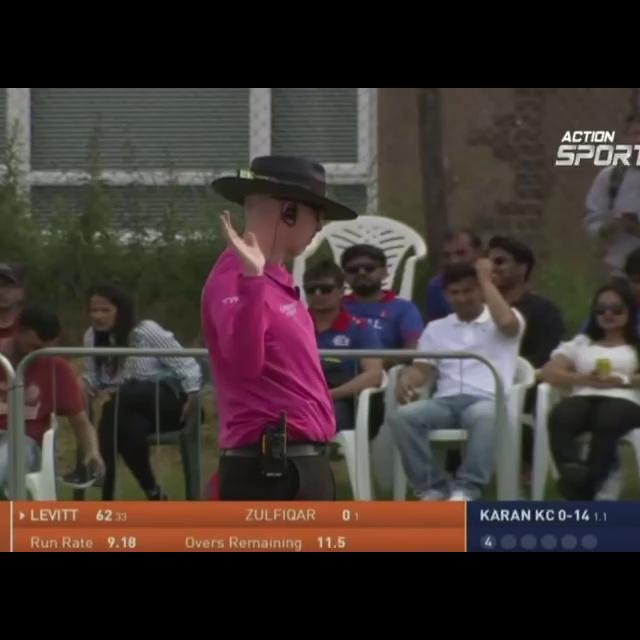umpire: (176, 146, 415, 496)
